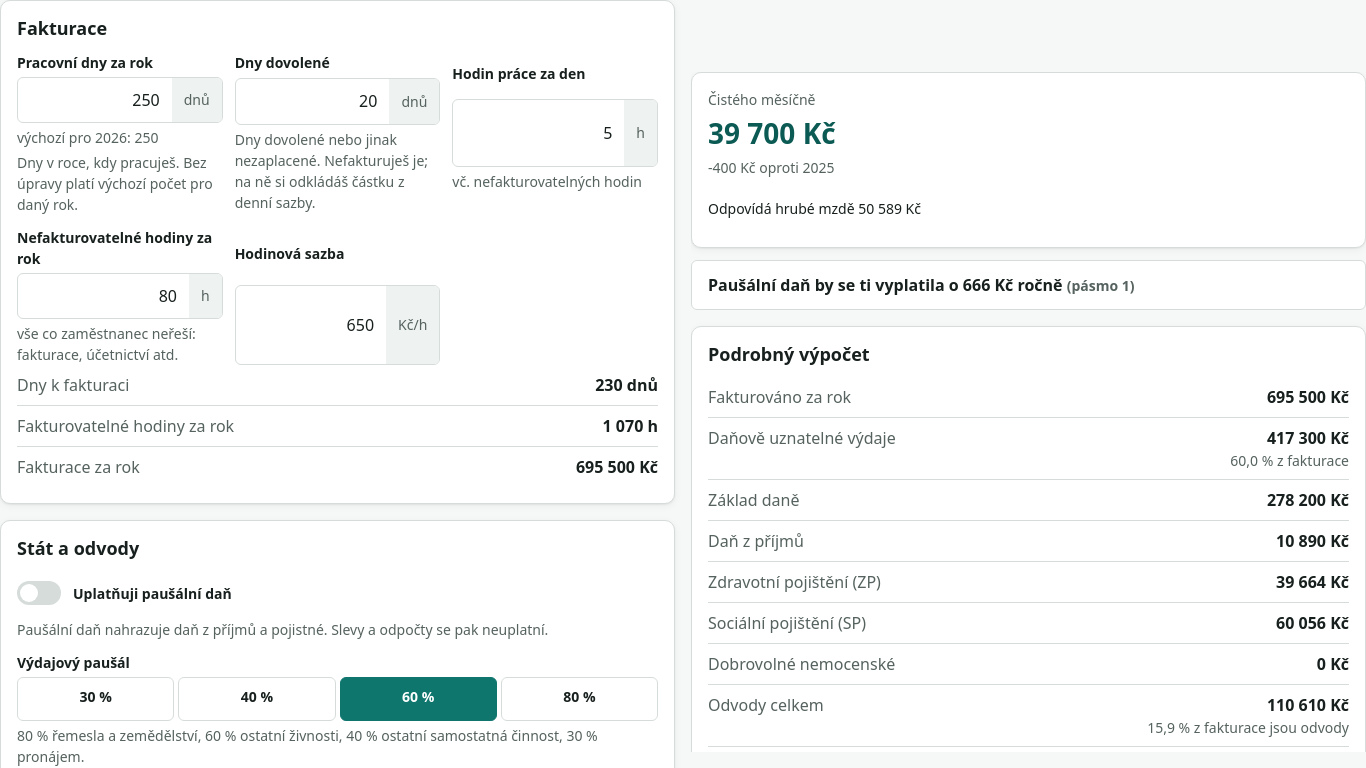
Test: CalcScreen with the 2026 defaults › recomputes the tax-deductible costs when the expense rate changes
Click the radio button labelled "80 %" at (579, 699), box top-left (501, 677), bottom-right (658, 721)
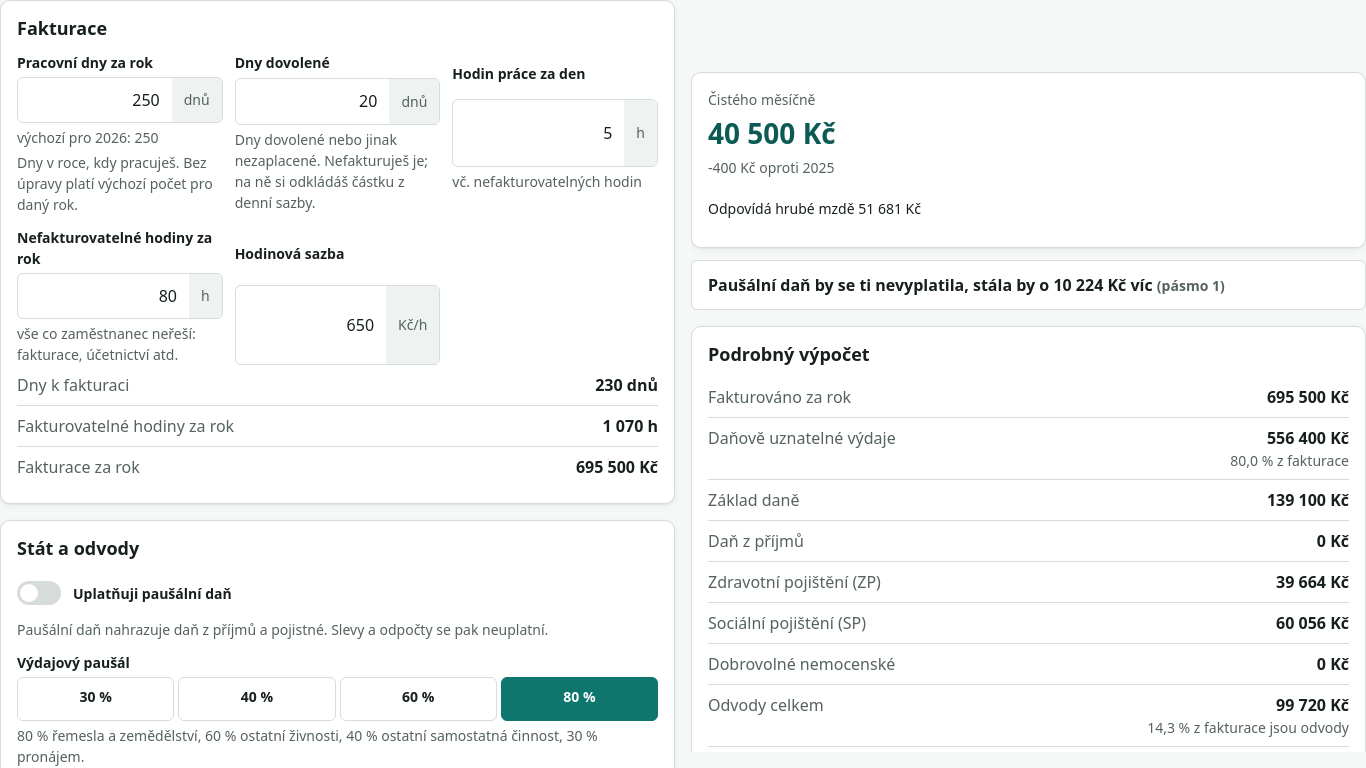
Result: the element showing "Daňově uznatelné výdaje 556 400 Kč 80,0 % z fakturace" is shown at top-left (708, 418), bottom-right (1349, 480)
